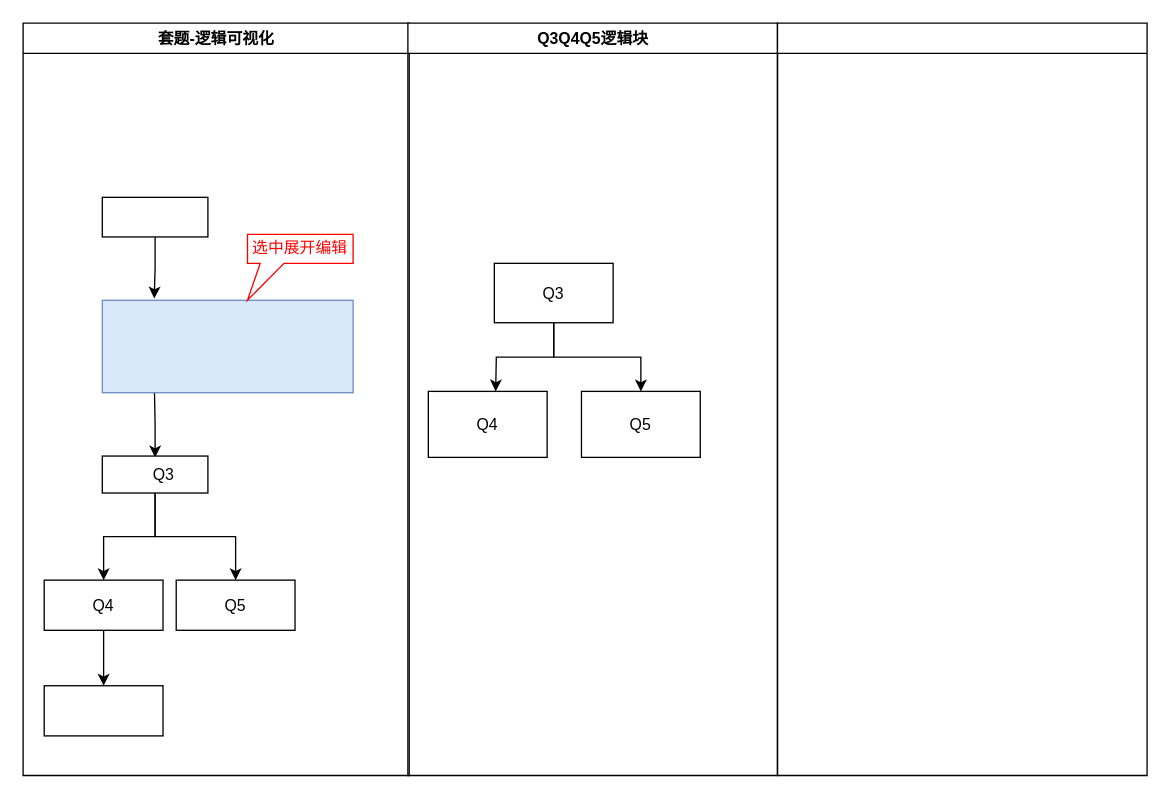
This 1171x799 diagram has some shape labels left out. Each missing label, with the centre of its shape:
"Q1" belongs at point (154, 216).
"Q2 (选中) 选项1 选项2 选项3" belongs at point (227, 346).
"Q6" belongs at point (103, 710).
"Thread 3" belongs at point (961, 399).
